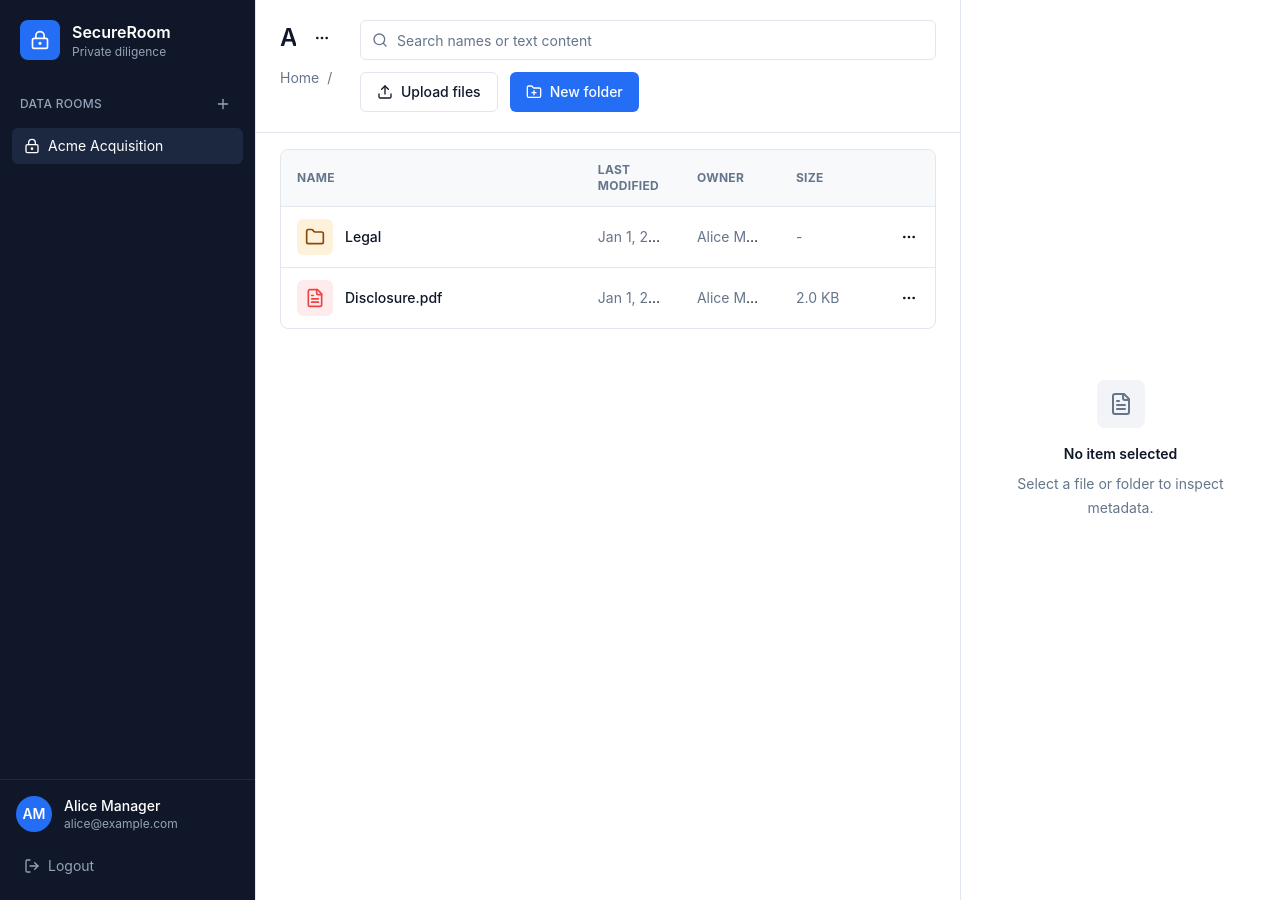
DataroomWorkspace › opens file move destinations from the details panel
Click the button "Disclosure.pdf" at (431, 298), box [297, 280, 566, 316]
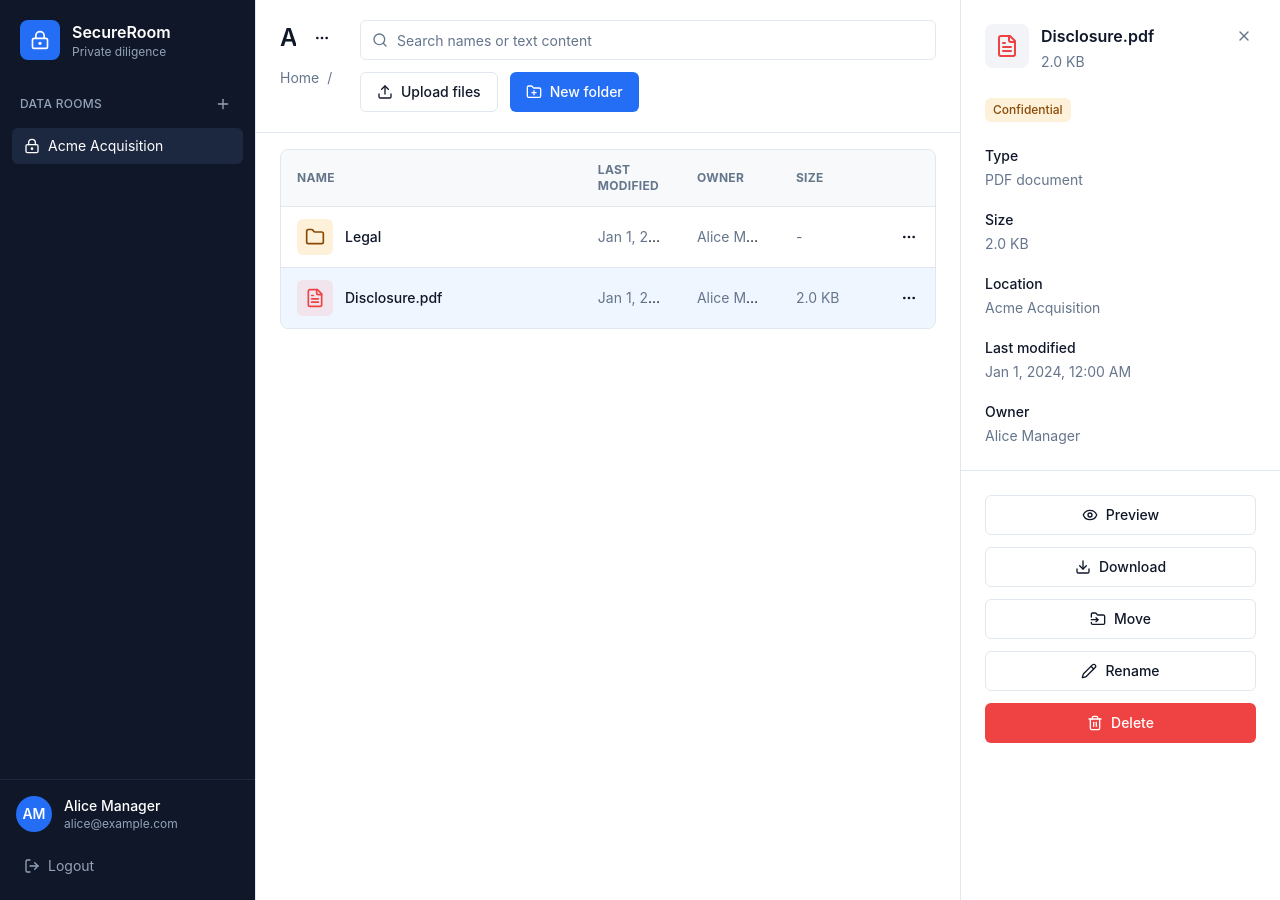
Click the button "Move" at (1120, 619), box [985, 599, 1256, 639]
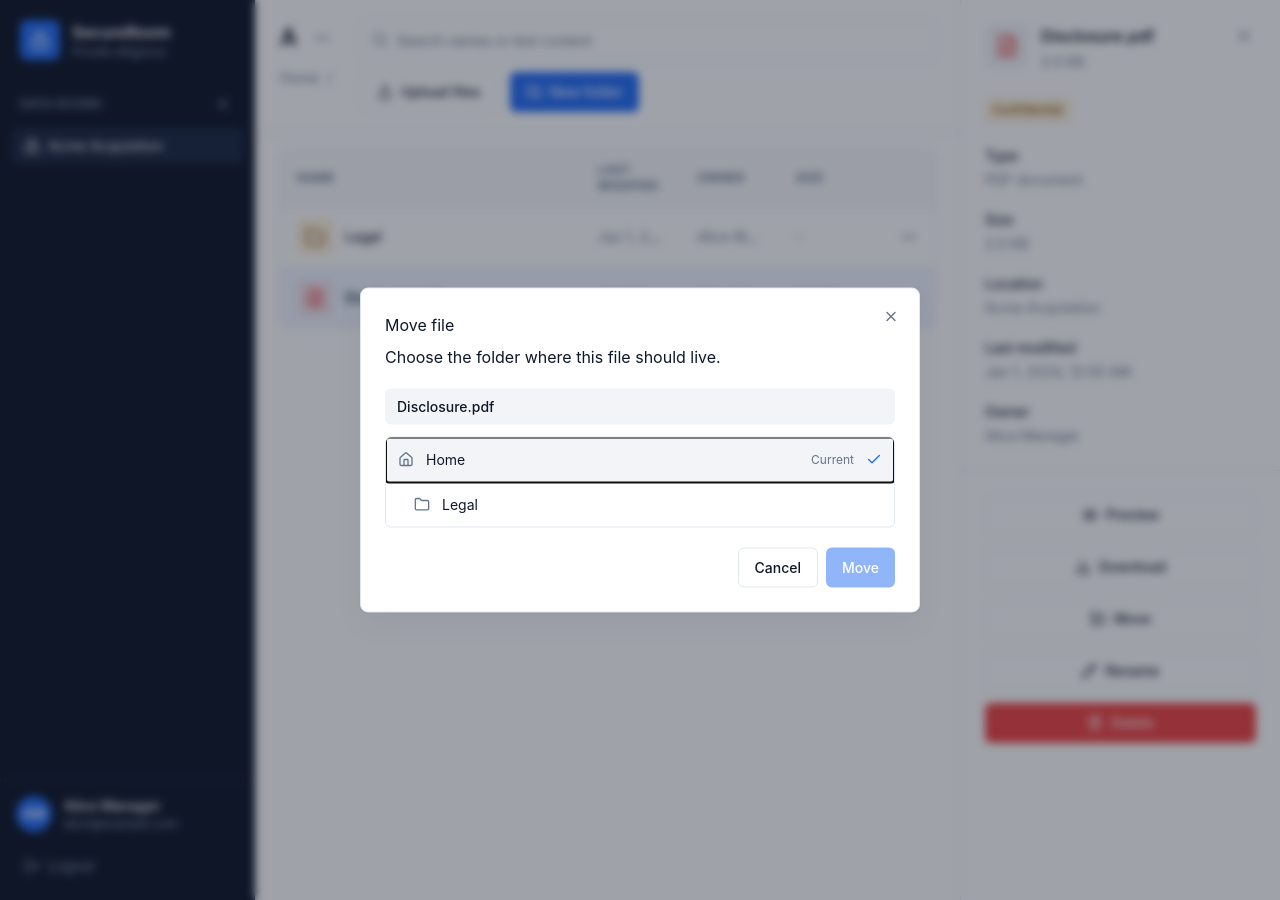
Expected: the button "Legal" is shown, [386, 482, 894, 526]
Result: the dialog "Move file" is shown at [360, 288, 920, 612]
